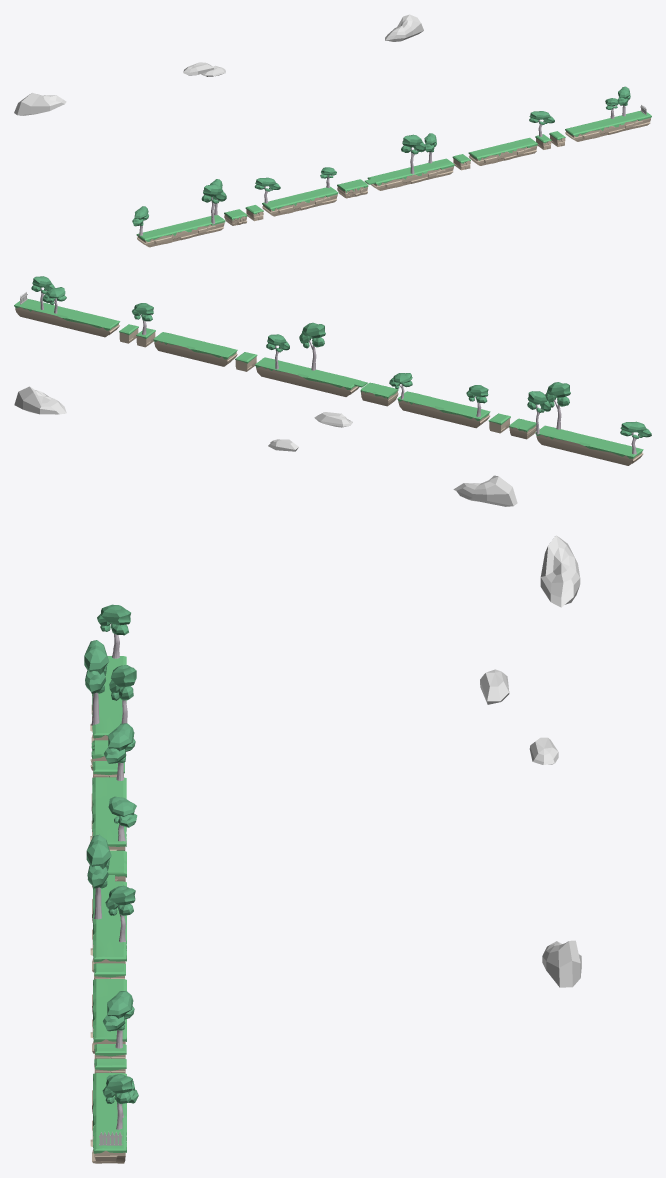
File: Park_Map_2.fbx
3 renders of one model, top to bottom at view 1: azimuth 30°, elevation 25°; view 2: azimuth 150°, elevation 25°; view 3: azimuth 270°, elevation 25°, orthographic. The views are drawn at different scales.
Parts seen in each view (by area): view 1: pCube42, pCube47, pCube52, pCube46, pCube49, pSphere6, pSphere9, pCube43, polySurface7, polySurface11; view 2: pCube42, pCube47, pCube52, pCube46, pCube49, pSphere6, pSphere9, pCube43, polySurface11, polySurface7, polySurface6, polySurface8 (+8 smaller); view 3: pCube52, pSphere6, pCube47, pCube46, pCube49, pSphere9, pCube42, polySurface11, polySurface7, polySurface14, polySurface9, polySurface6 (+3 smaller).
Part boxes in pixels (x1,y1,x2,y2): pCube42: [136, 215, 225, 247]; pCube47: [367, 158, 454, 190]; pCube52: [565, 111, 651, 141]; pCube46: [262, 186, 338, 216]; pCube49: [468, 137, 537, 165]; pSphere6: [14, 92, 66, 115]; pSphere9: [385, 14, 423, 41]; pCube43: [337, 179, 368, 198]; polySurface7: [201, 184, 226, 224]; polySurface11: [401, 134, 425, 174]; pCube42: [535, 425, 643, 465]; pCube47: [255, 357, 360, 396]; pCube52: [14, 298, 120, 337]; pCube46: [397, 391, 490, 428]; pCube49: [153, 332, 237, 366]; pSphere6: [453, 475, 517, 506]; pSphere9: [14, 386, 66, 414]; pCube43: [360, 382, 398, 406]; polySurface11: [299, 322, 325, 370]; polySurface7: [545, 382, 570, 429]; polySurface6: [620, 421, 651, 454]; polySurface8: [527, 391, 550, 434]; pCube52: [90, 1073, 126, 1163]; pSphere6: [540, 535, 580, 607]; pCube47: [90, 881, 126, 972]; pCube46: [90, 777, 126, 850]; pCube49: [90, 979, 126, 1053]; pSphere9: [542, 940, 581, 987]; pCube42: [90, 656, 126, 745]; polySurface11: [86, 834, 111, 919]; polySurface7: [84, 640, 109, 725]; polySurface14: [103, 991, 134, 1048]; polySurface9: [104, 723, 135, 780]; polySurface6: [97, 604, 130, 658].
Size of the model in its own units: 263 by 35.76 by 109.
